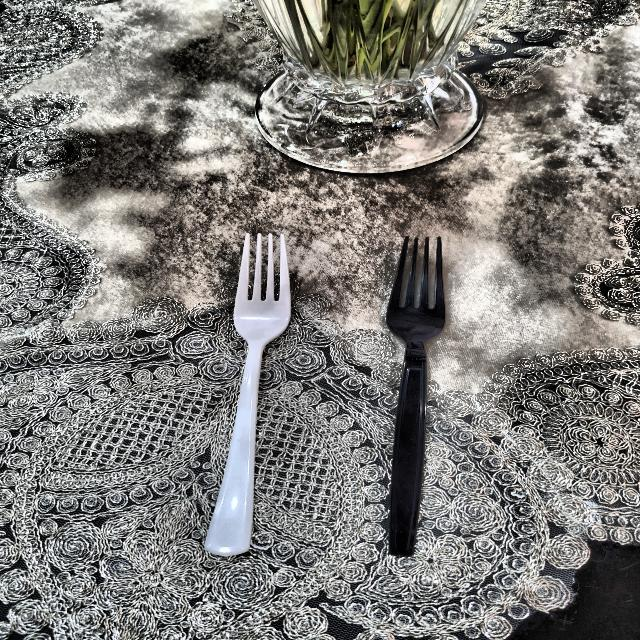plastic utensil: (180, 227, 302, 558), (371, 235, 449, 559)
